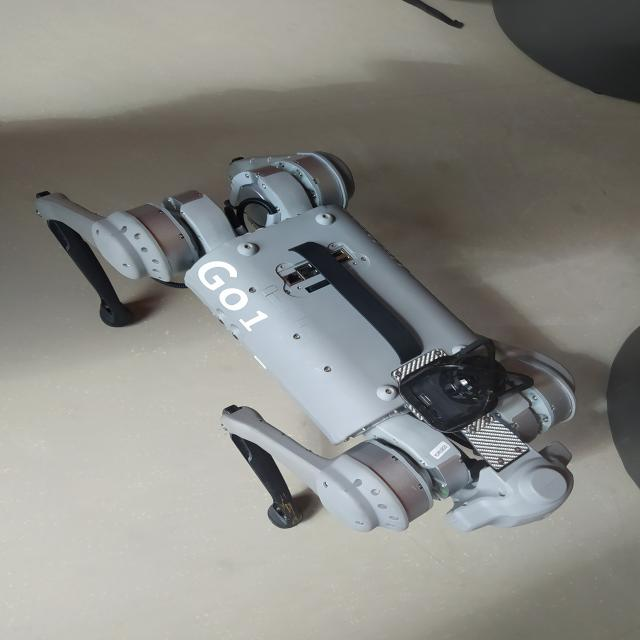unitree-go1-robot: (22, 136, 596, 544)
